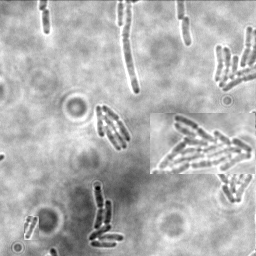Dividing: (123, 1, 142, 95), (41, 8, 52, 35)
Microcolony: (150, 113, 255, 174), (212, 25, 255, 94), (89, 184, 126, 248), (96, 103, 132, 150), (182, 16, 193, 48)
Rod: (24, 216, 39, 240)
